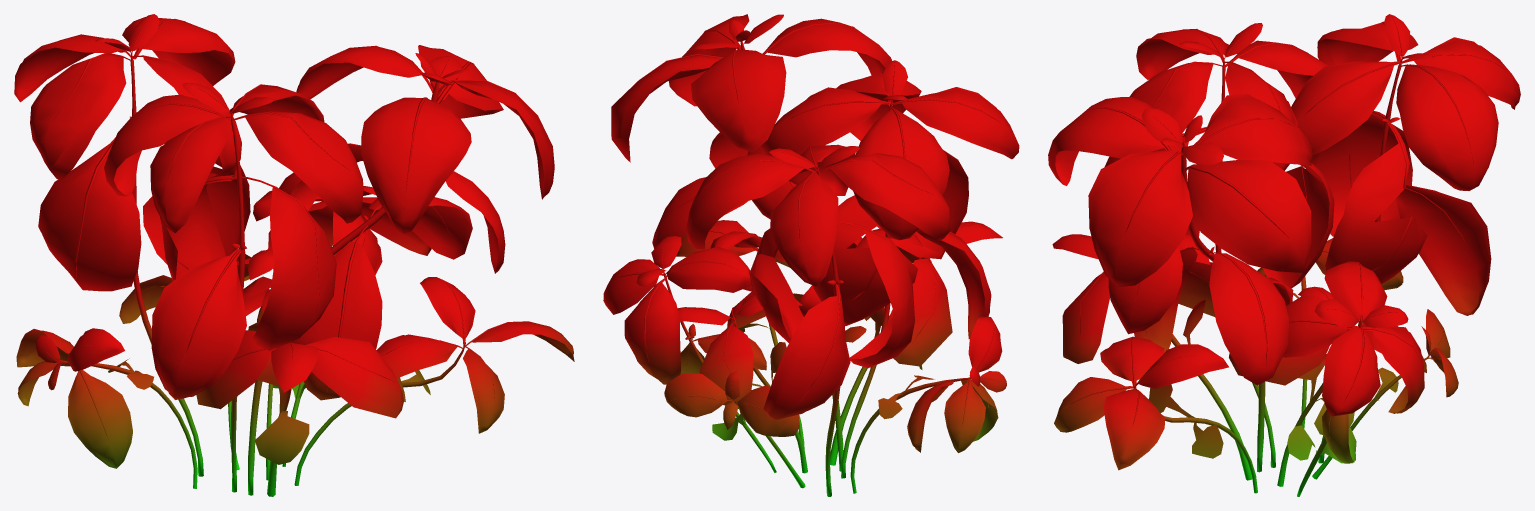
File: Basil_LOD1_Var6_vgpochzia.fbx
3 renders of one model, left to right at view 1: azimuth 30°, elevation 25°; view 2: azimuth 150°, elevation 25°; view 3: azimuth 270°, elevation 25°, orthographic. The views are drawn at different scales.
Parts seen in each view (by area): view 1: _t99c_Var6_LOD1; view 2: _t99c_Var6_LOD1; view 3: _t99c_Var6_LOD1.
Part boxes in pixels (x1,y1,x2,y2): _t99c_Var6_LOD1: (14,14,574,496); _t99c_Var6_LOD1: (603,14,1019,496); _t99c_Var6_LOD1: (1048,14,1520,496).
Bounding box in the file's own units: 25.84 × 23.91 × 24.29.
